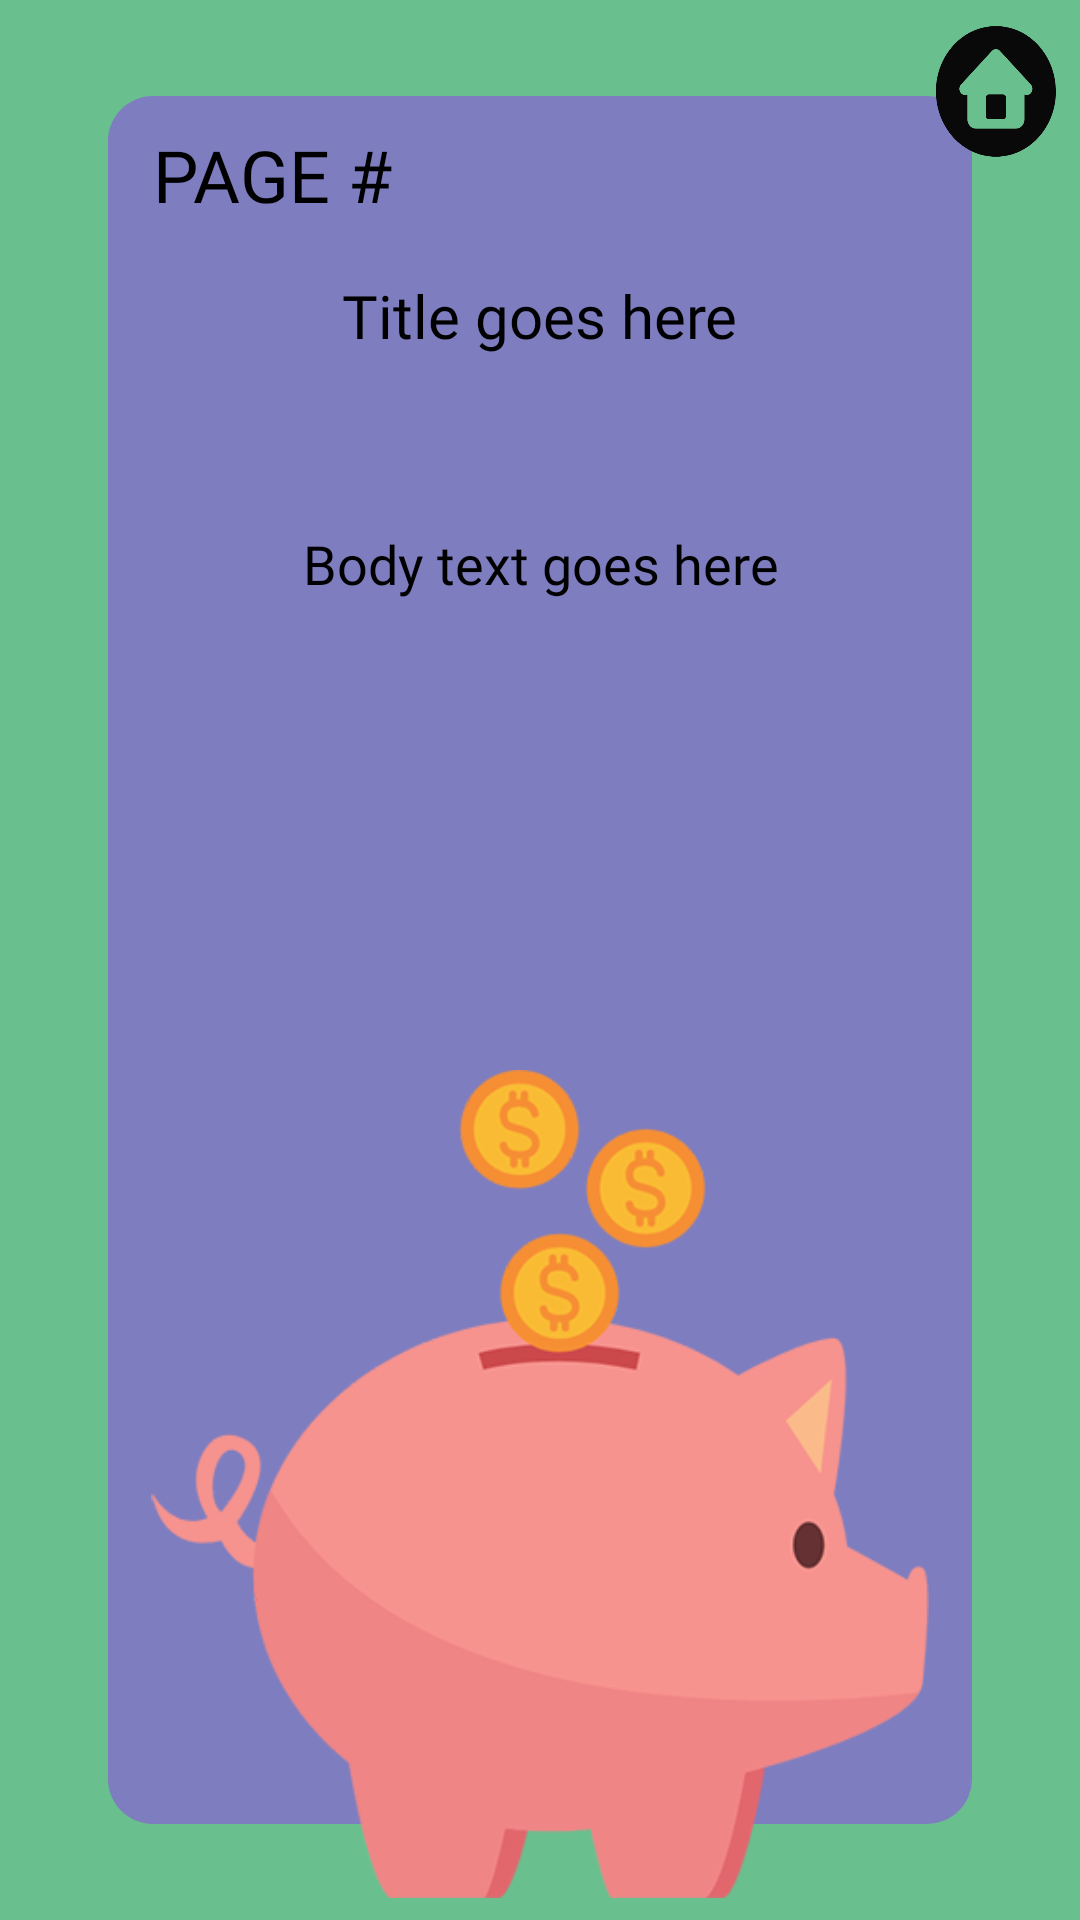

Icon click points for this 1080*1920 phone screenshot, format point (x, y):
home: point (996, 91)
